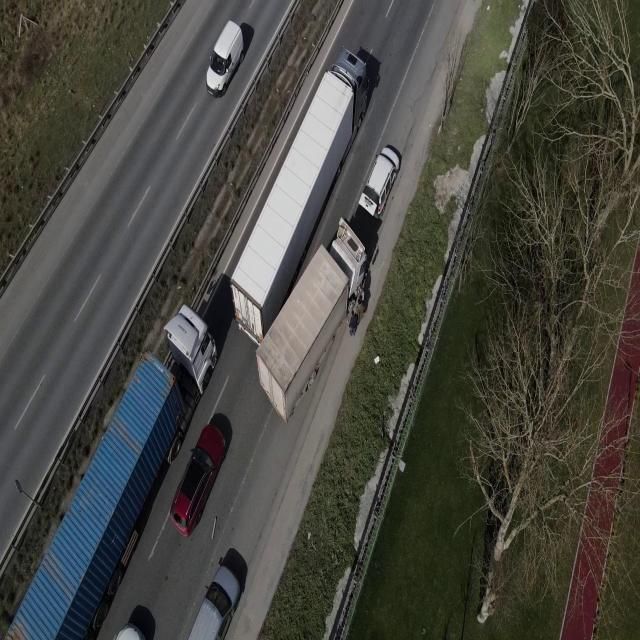p3rson: (349, 310, 357, 338), (356, 300, 363, 325), (358, 286, 364, 304)
